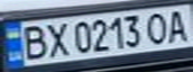0: (69, 18, 93, 54)
1: (106, 14, 127, 50)
2: (90, 16, 112, 53)
3: (121, 12, 145, 48)
A: (163, 7, 193, 43)
B: (15, 21, 51, 61)
O: (142, 10, 172, 45)
X: (42, 20, 72, 58)
